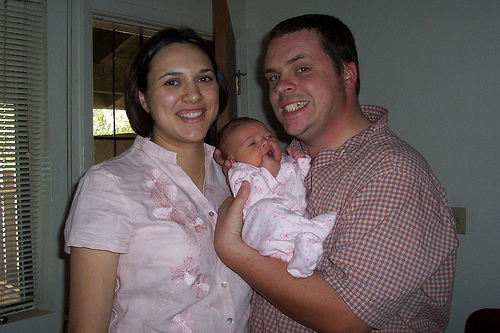without_mask: (138, 36, 227, 144), (263, 31, 355, 135), (221, 117, 281, 173)
